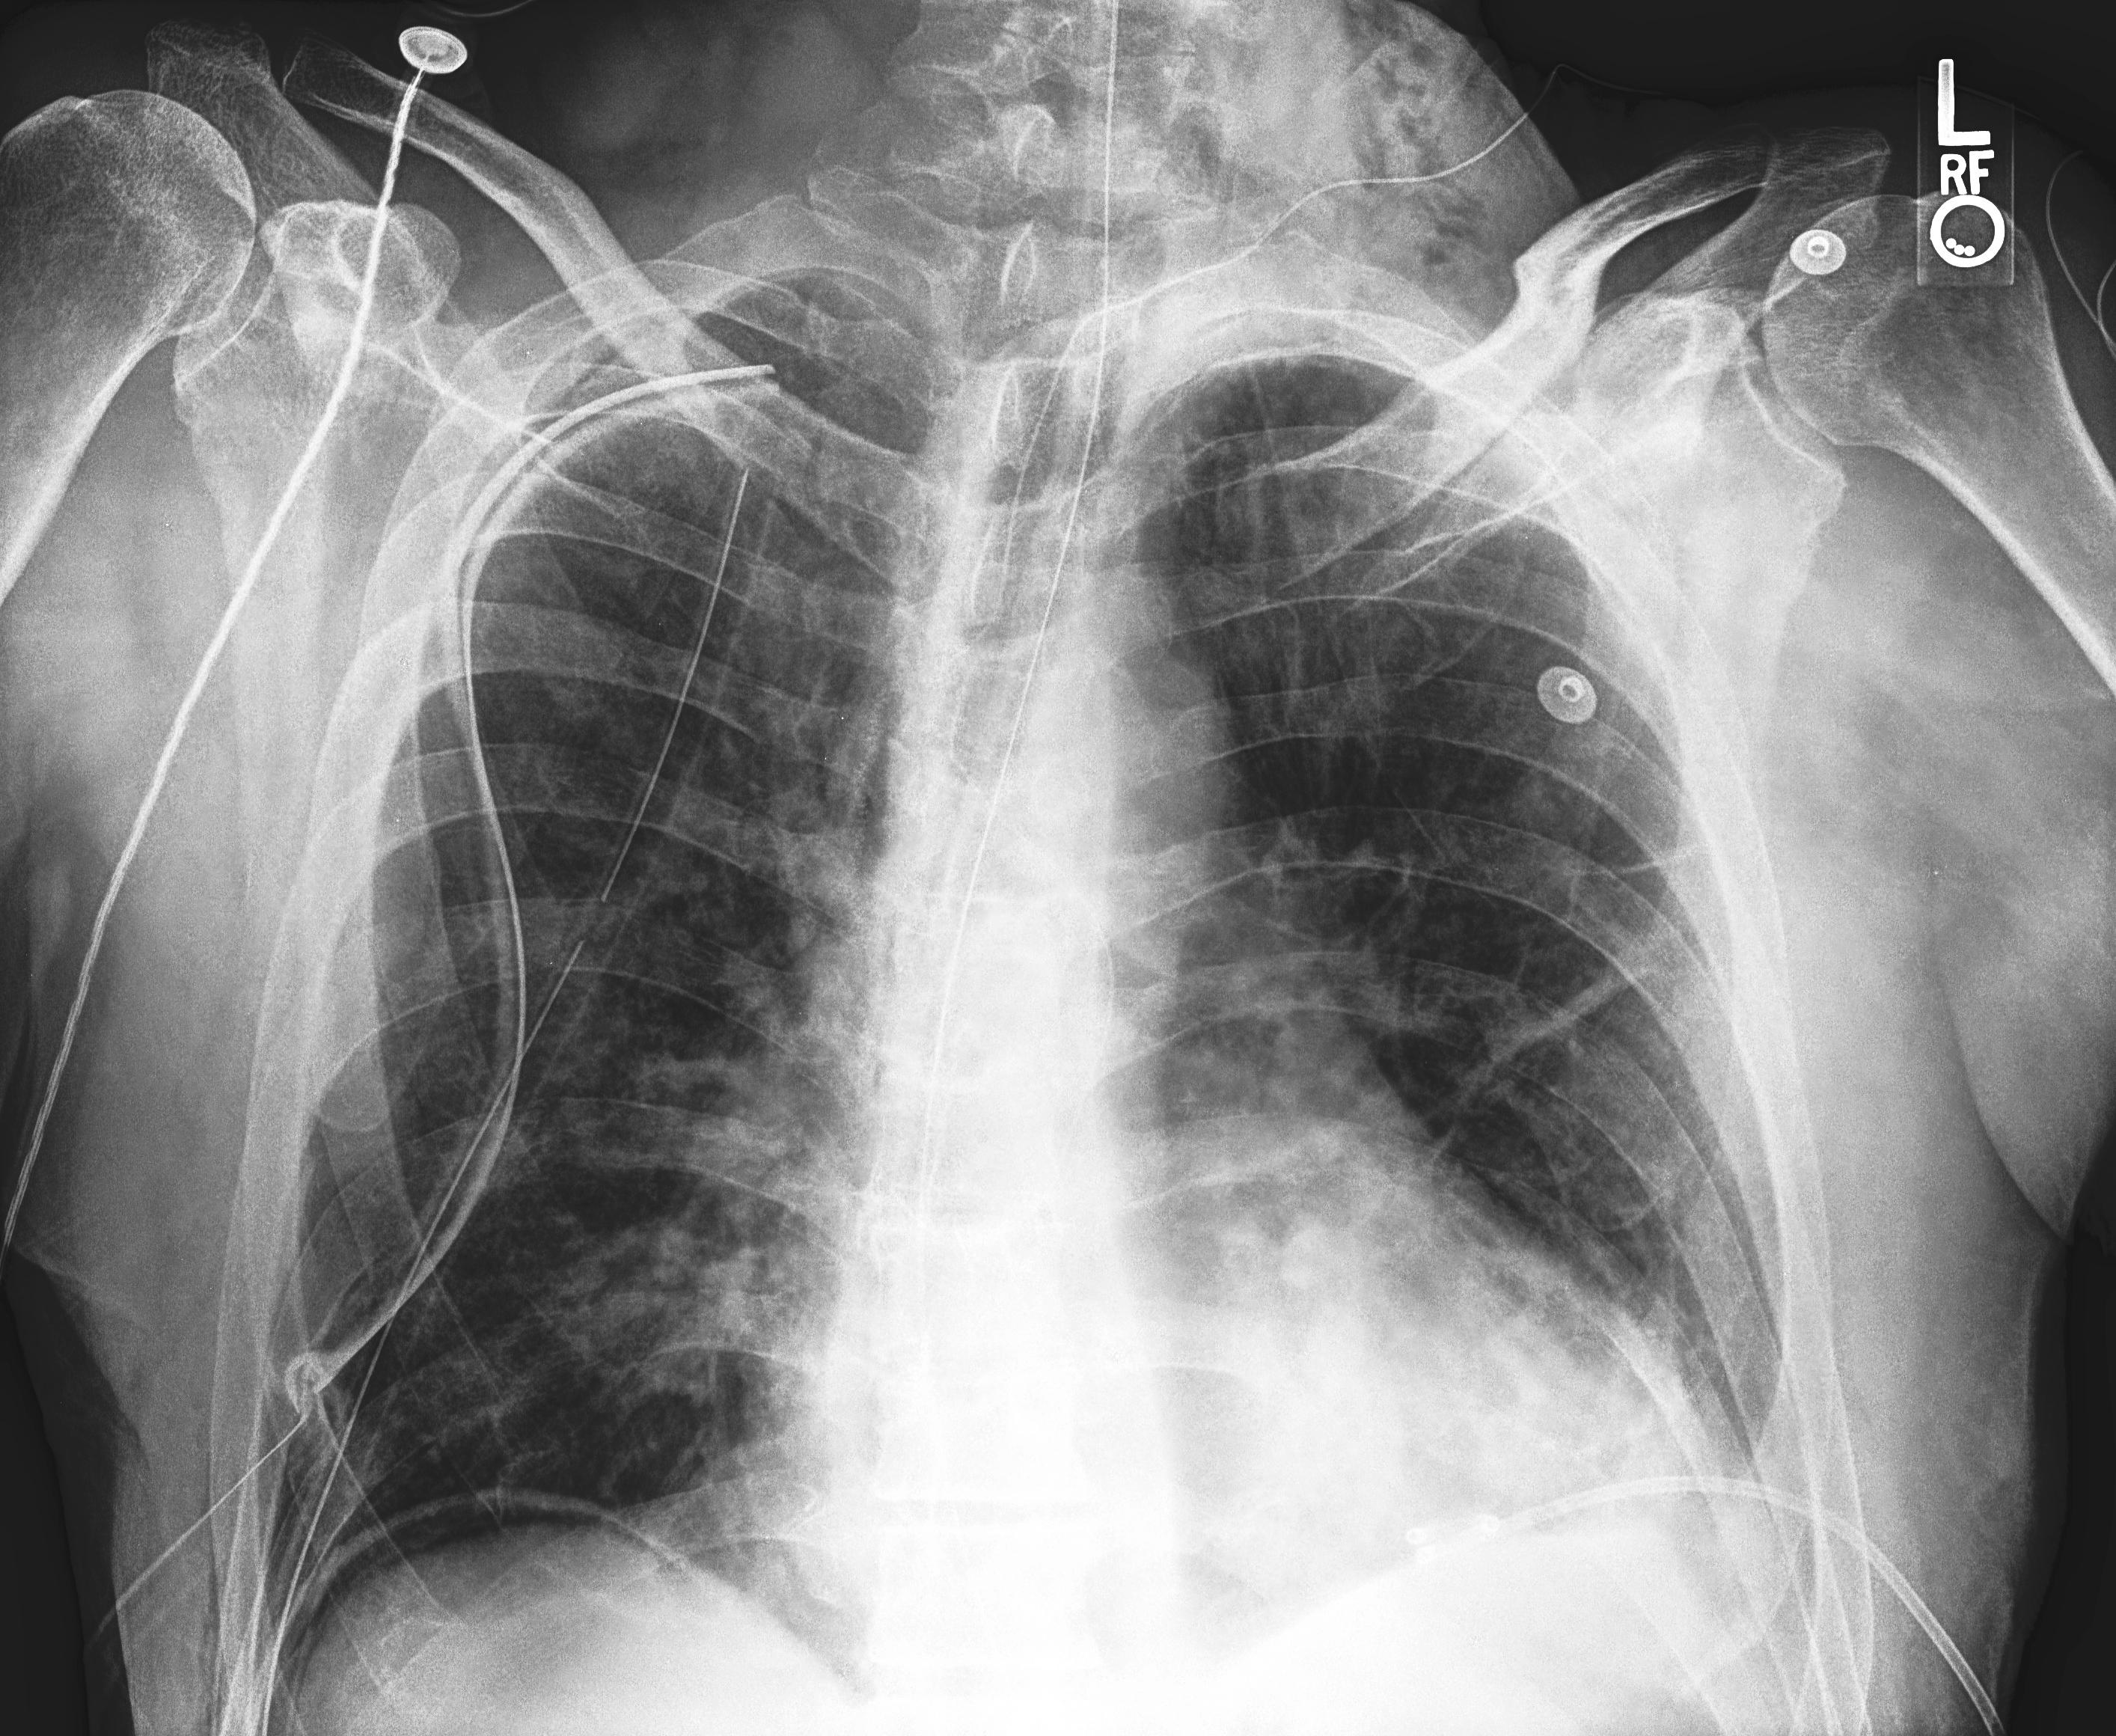Pleural Effusion: (1381, 1409, 1896, 1736)
